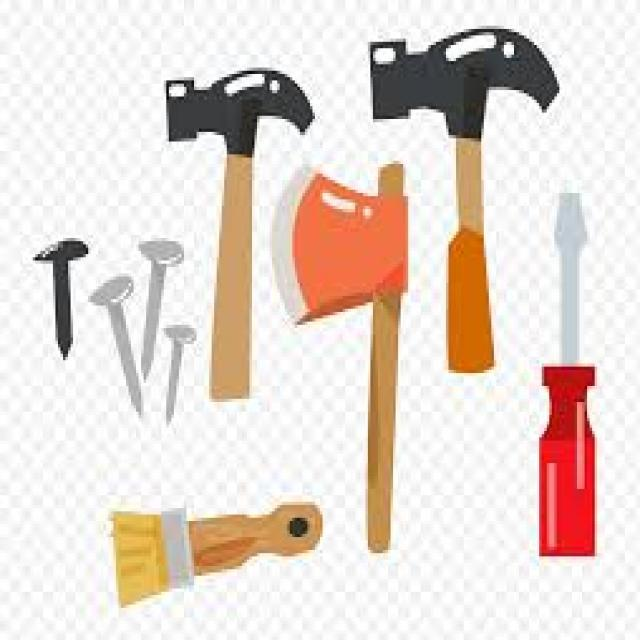hammer: (358, 14, 570, 390), (152, 49, 322, 408)
screwdriver: (526, 169, 606, 567)
